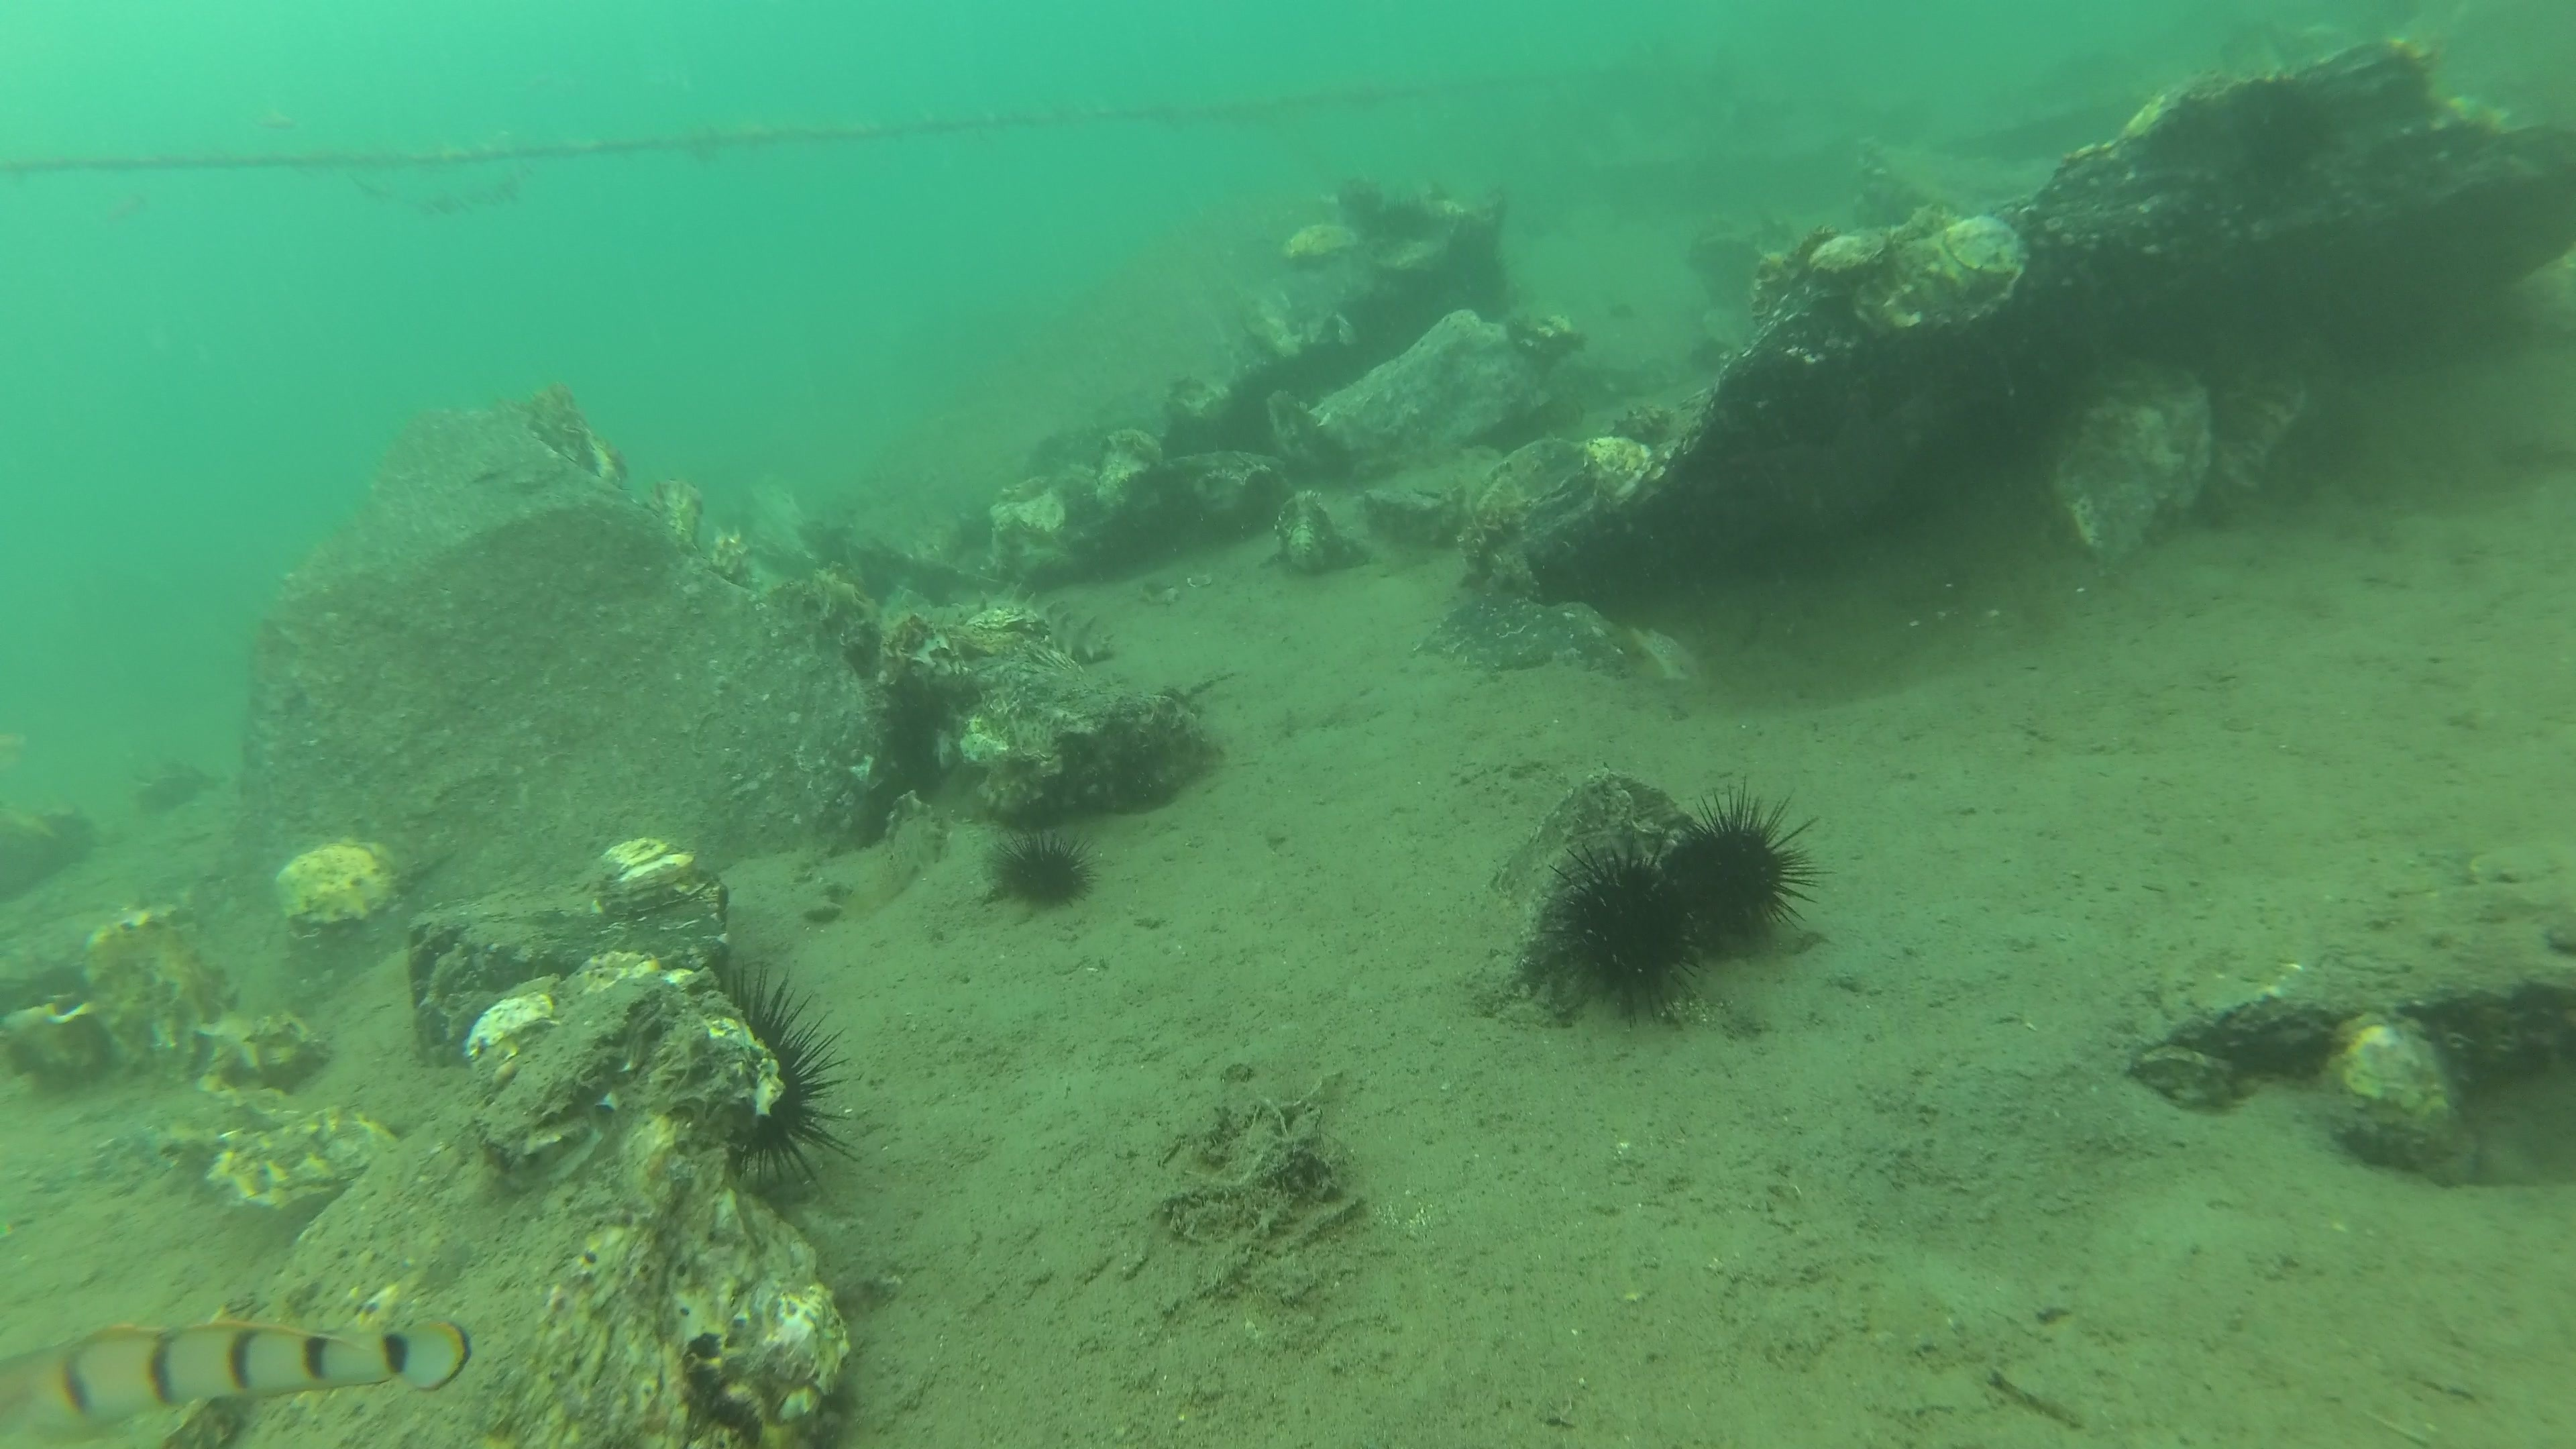echinus: (715, 950, 867, 1192), (1537, 828, 1709, 1030), (1684, 770, 1840, 941), (2233, 69, 2341, 179), (985, 824, 1106, 911), (1376, 195, 1433, 242)
holothurian: (950, 582, 1118, 667)
starfish: (1727, 387, 1937, 540)
